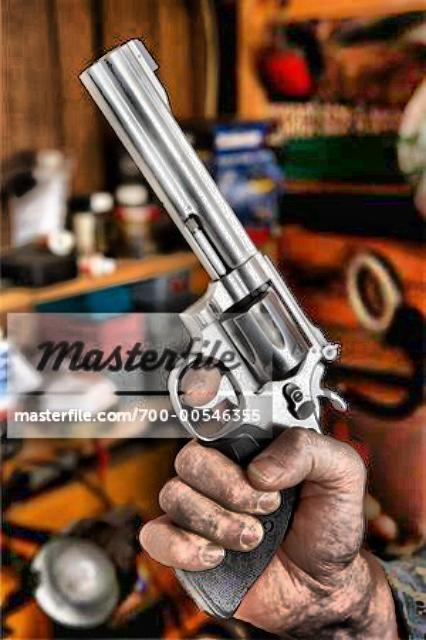pistol: (71, 39, 324, 607)
